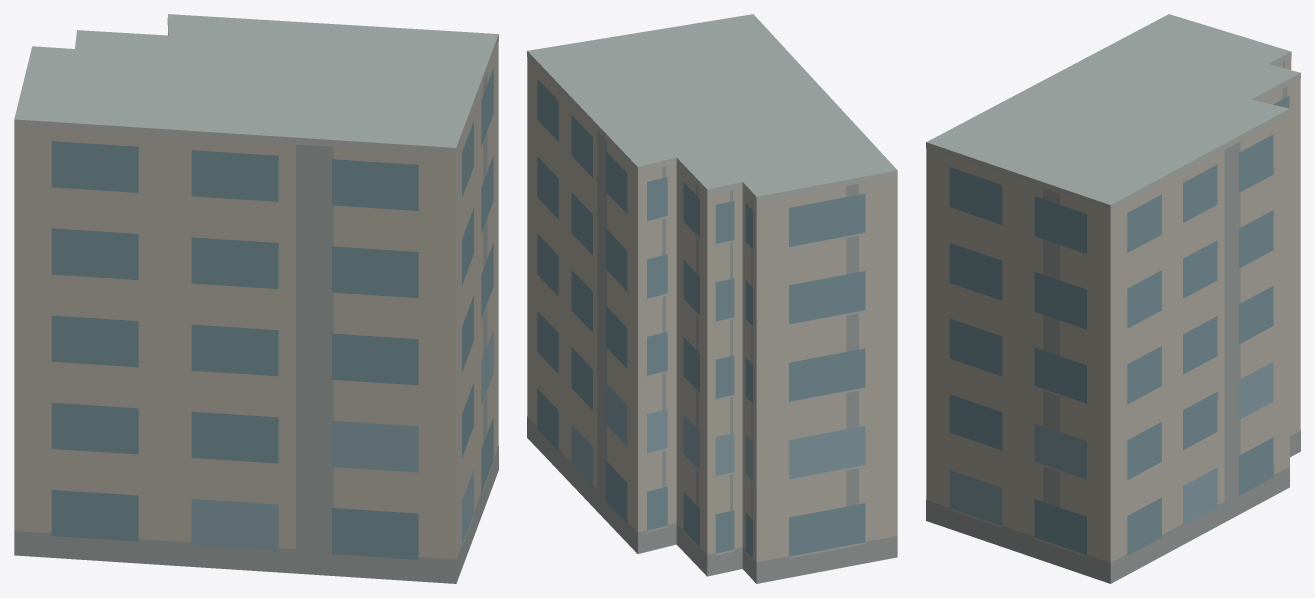
Rendered from survey-upis-33019574.glb.
The picture shows the model from 3 angles, left to right: view 1: azimuth 30°, elevation 25°; view 2: azimuth 150°, elevation 25°; view 3: azimuth 270°, elevation 25°; orthographic projection. The views are drawn at different scales.
Parts seen in each view (by area): view 1: survey-upis-33019574.tmp; view 2: survey-upis-33019574.tmp; view 3: survey-upis-33019574.tmp.
Boxes of the visible parts, x1=… form: survey-upis-33019574.tmp: x1=14, y1=14, x2=498, y2=583; survey-upis-33019574.tmp: x1=527, y1=14, x2=897, y2=583; survey-upis-33019574.tmp: x1=926, y1=14, x2=1300, y2=583.
Bounding box in the file's own units: 16.52 × 15.25 × 13.68.
